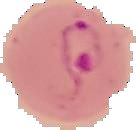parasitized: (53, 17, 111, 80)
